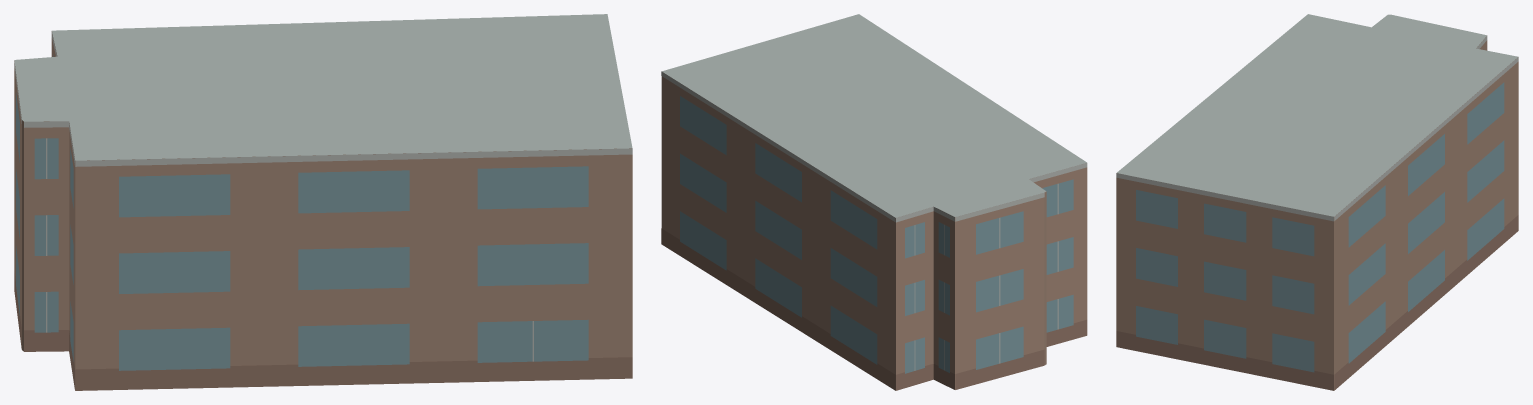
File: survey-upis-33040886.glb
3 views of the same model, side by side, from view 1: azimuth 30°, elevation 25°; view 2: azimuth 150°, elevation 25°; view 3: azimuth 270°, elevation 25° (orthographic). The views are drawn at different scales.
Parts seen in each view (by area): view 1: survey-upis-33040886.tmp; view 2: survey-upis-33040886.tmp; view 3: survey-upis-33040886.tmp.
Part boxes in pixels (<box>): survey-upis-33040886.tmp: <box>14,14,632,390</box>; survey-upis-33040886.tmp: <box>661,14,1087,390</box>; survey-upis-33040886.tmp: <box>1116,14,1518,390</box>.
Size of the model in its own units: 22.87 by 9.15 by 19.17.
